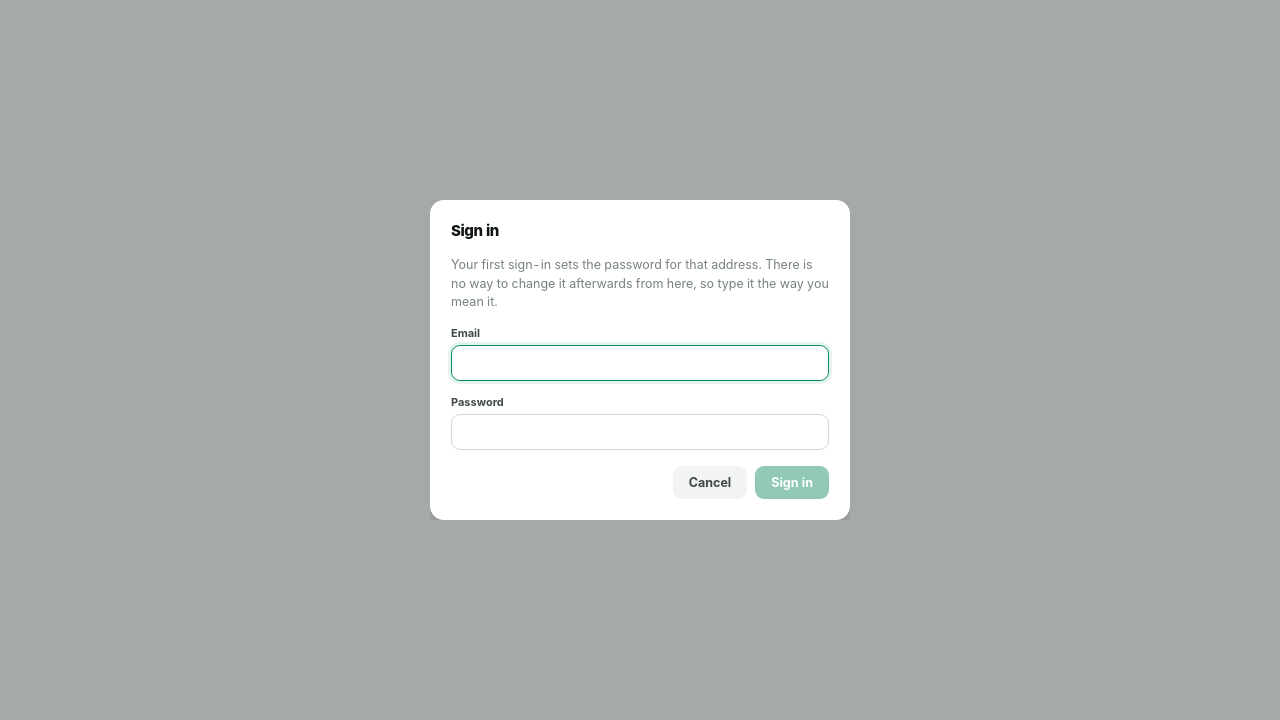
Test case: the sign-in dialog › will not submit until there is an address and a long enough password
Expected: the button "Sign in" is disabled, [755,466,829,499]
Type "rider@example.com" into the field labelled "Email" at (640, 363), box [451,345,829,381]
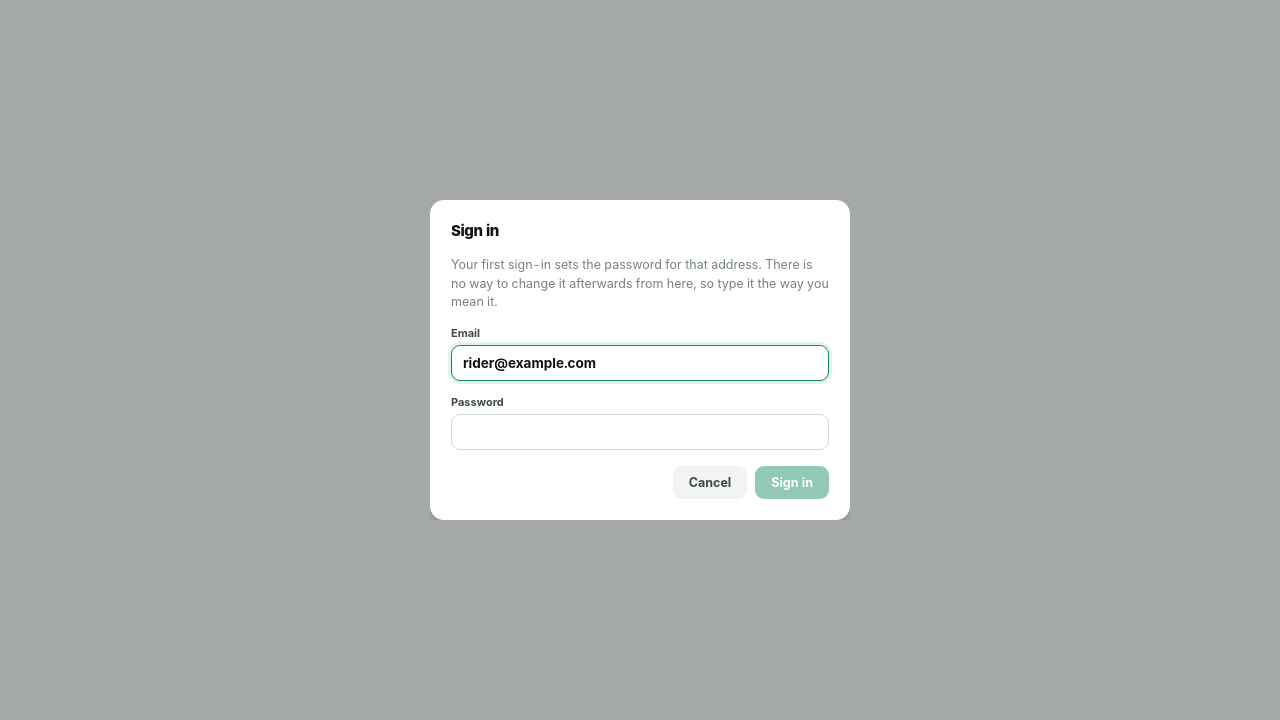
Type "short" into the password field labelled "Password" at (640, 432), box [451,414,829,450]
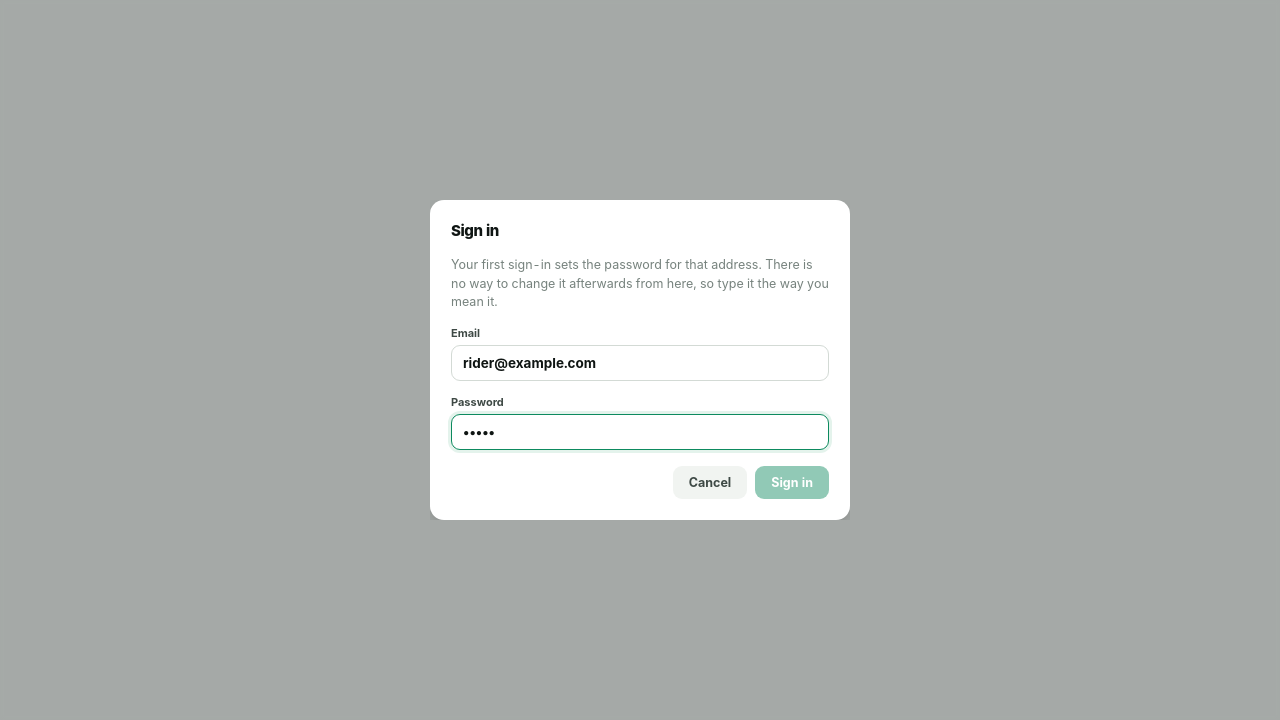
Expected: the button "Sign in" is disabled, [755,466,829,499]
Type "er still" into the password field labelled "Password" at (640, 432), box [451,414,829,450]
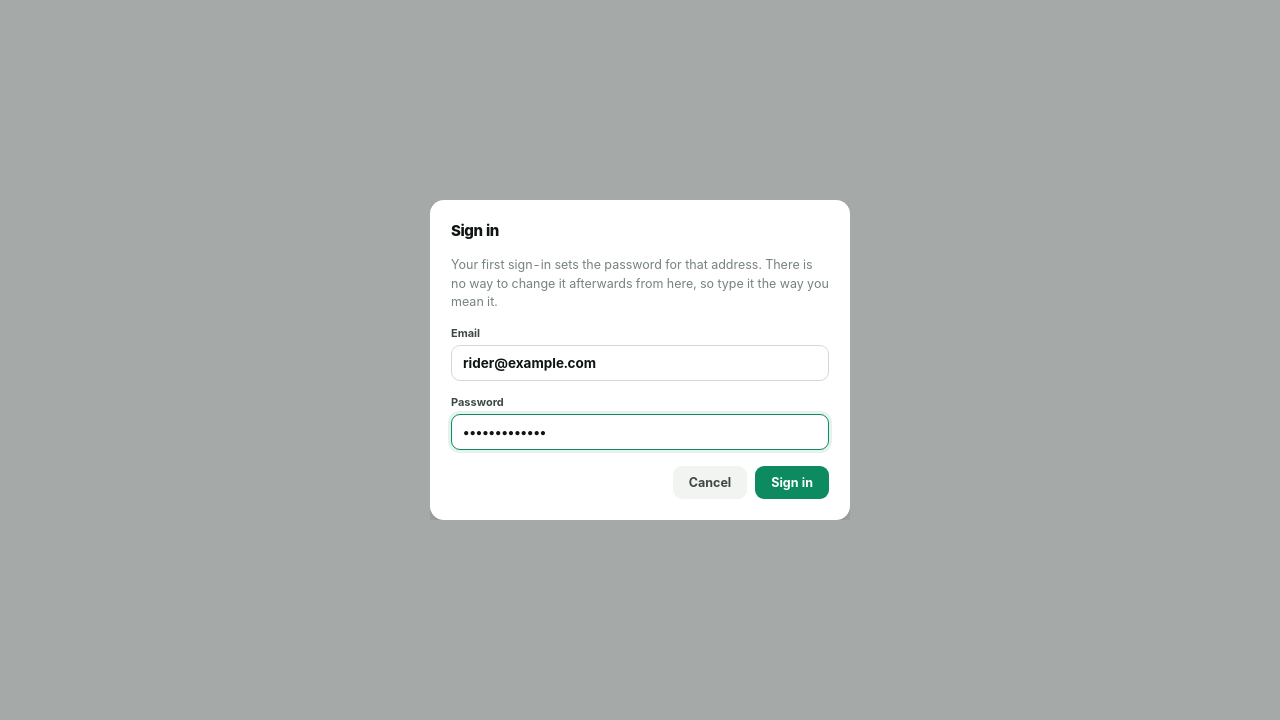
Now the button "Sign in" is enabled, box [755,466,829,499]
